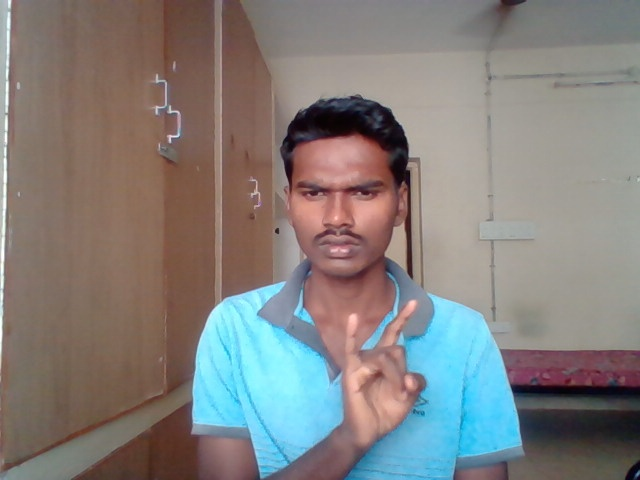I Love You: (341, 298, 430, 446)
